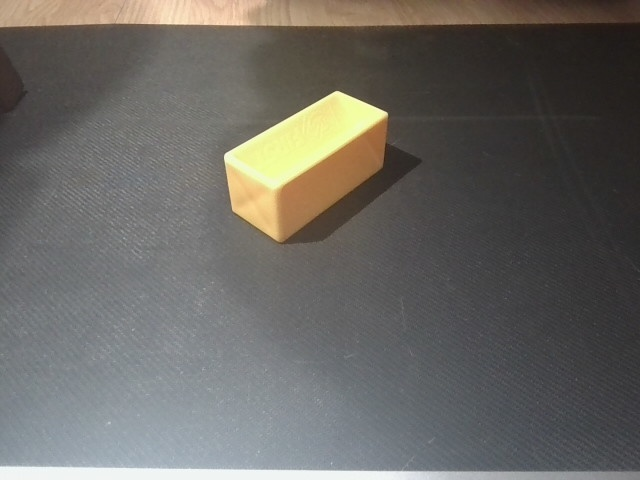YellowSample: (220, 88, 392, 246)
